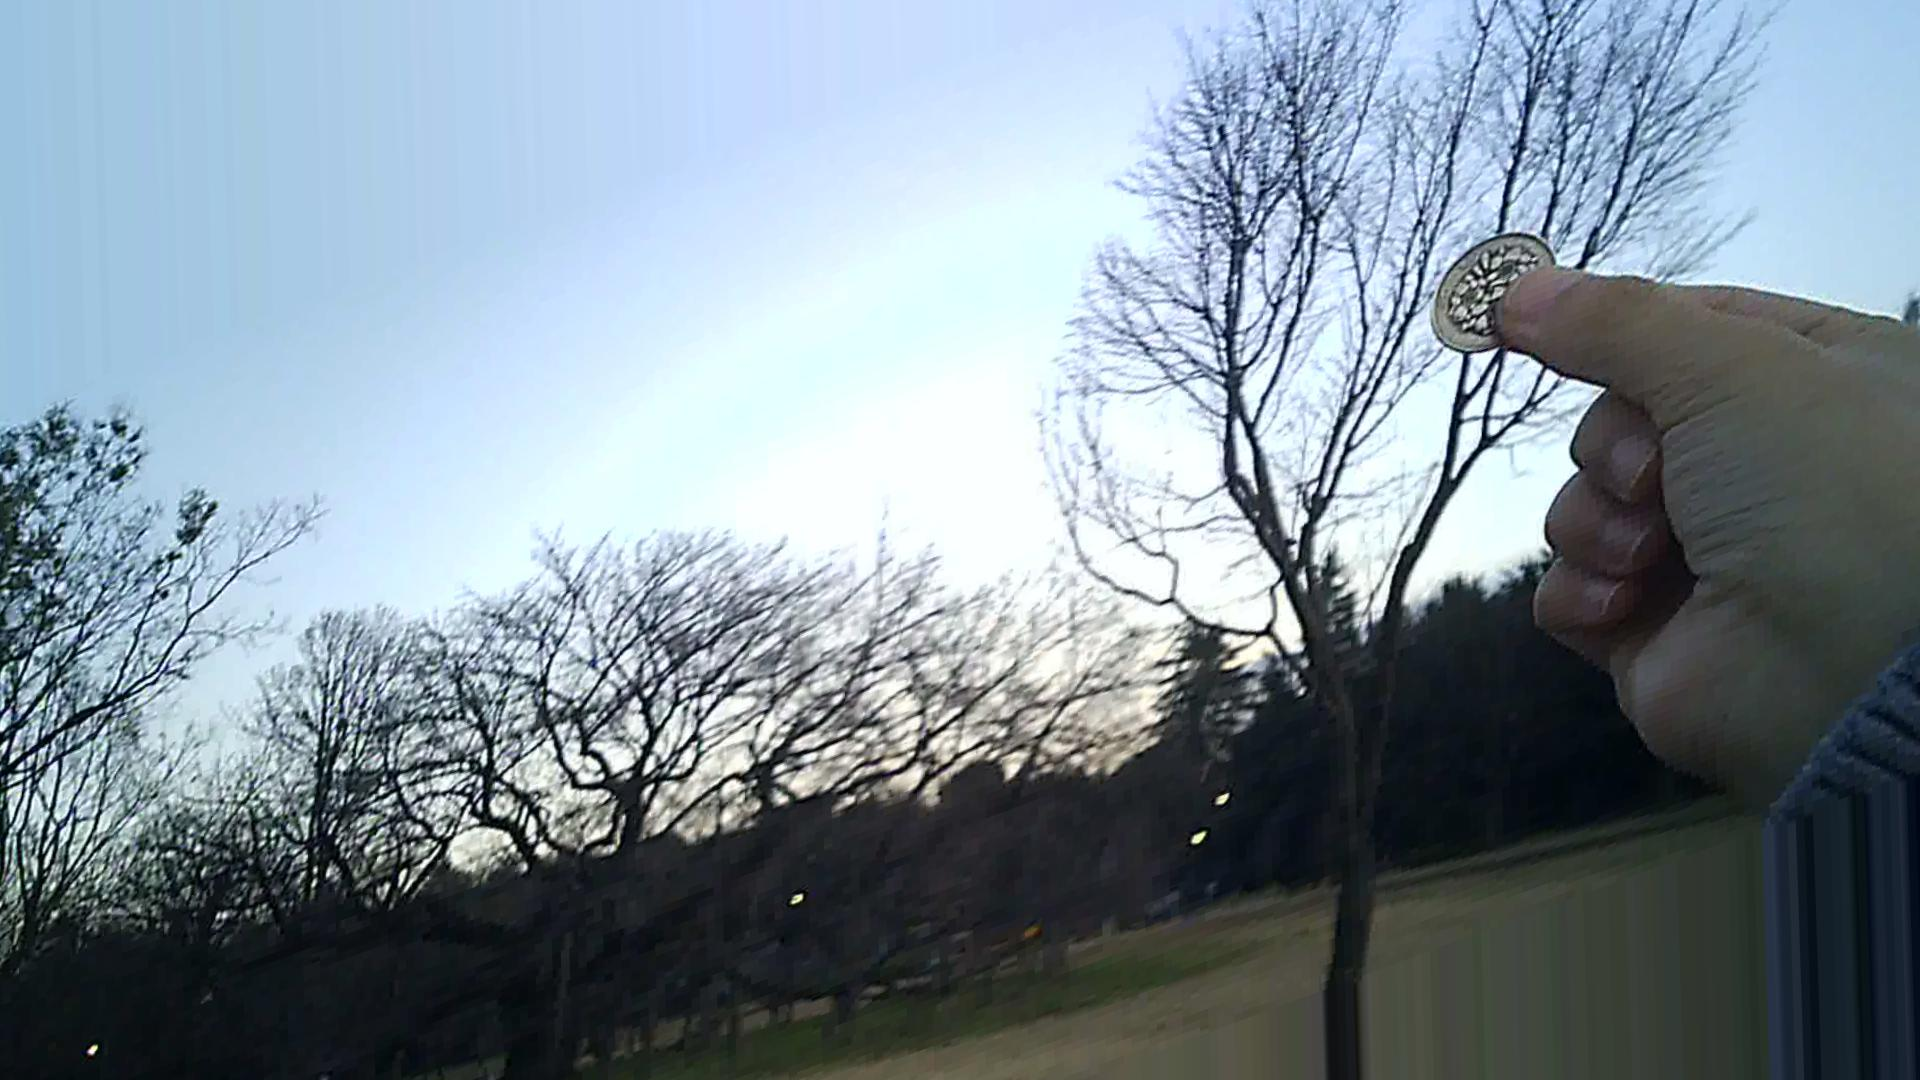100 Yen: (1424, 225, 1571, 375)
